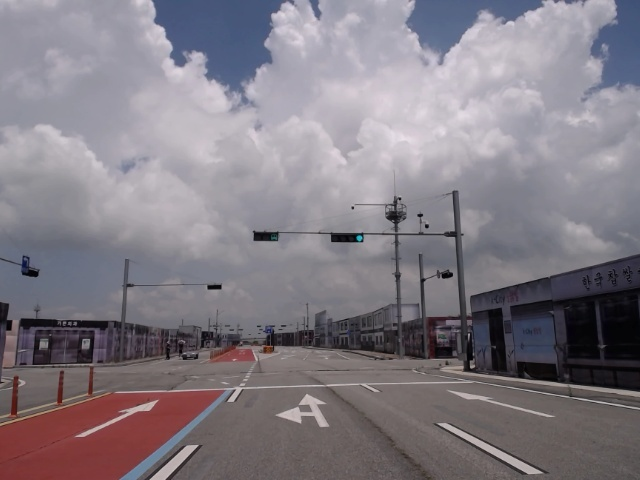straight_green_4: (332, 234, 365, 242)
